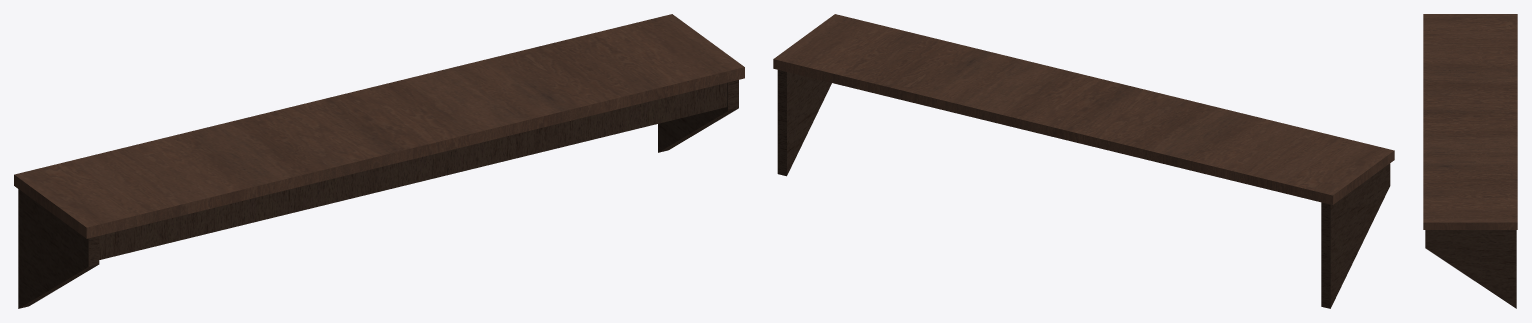
File: WallShelf.fbx
The picture shows the model from 3 angles, left to right: view 1: azimuth 30°, elevation 25°; view 2: azimuth 150°, elevation 25°; view 3: azimuth 270°, elevation 25°; orthographic projection. The views are drawn at different scales.
Visible parts, largest first — view 1: WallShelf_Baked; view 2: WallShelf_Baked; view 3: WallShelf_Baked.
Part boxes in pixels (left/top/right/bottom): WallShelf_Baked: left=14, top=14, right=744, bottom=308; WallShelf_Baked: left=773, top=14, right=1394, bottom=308; WallShelf_Baked: left=1423, top=14, right=1517, bottom=308.
Size of the model in its own units: 178 by 34.77 by 33.95.
Materials: 1 (1 with a texture image).
